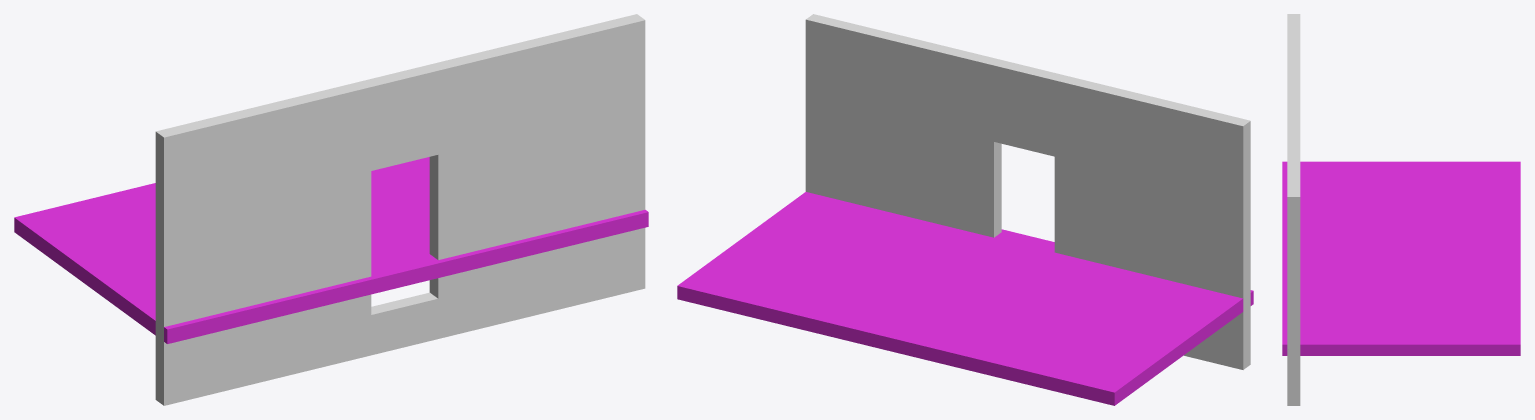
Rendered from room1.glb.
The picture shows the model from 3 angles, left to right: view 1: azimuth 30°, elevation 25°; view 2: azimuth 150°, elevation 25°; view 3: azimuth 270°, elevation 25°; orthographic projection. The views are drawn at different scales.
Visible parts, largest first — view 1: Cube; view 2: Cube; view 3: Cube.
Boxes of the visible parts, bbox=[...] form: Cube: bbox=[14, 14, 648, 405]; Cube: bbox=[677, 14, 1253, 405]; Cube: bbox=[1282, 14, 1520, 405].
Bounding box in the file's own units: 14.4 × 7.67 × 7.94.
